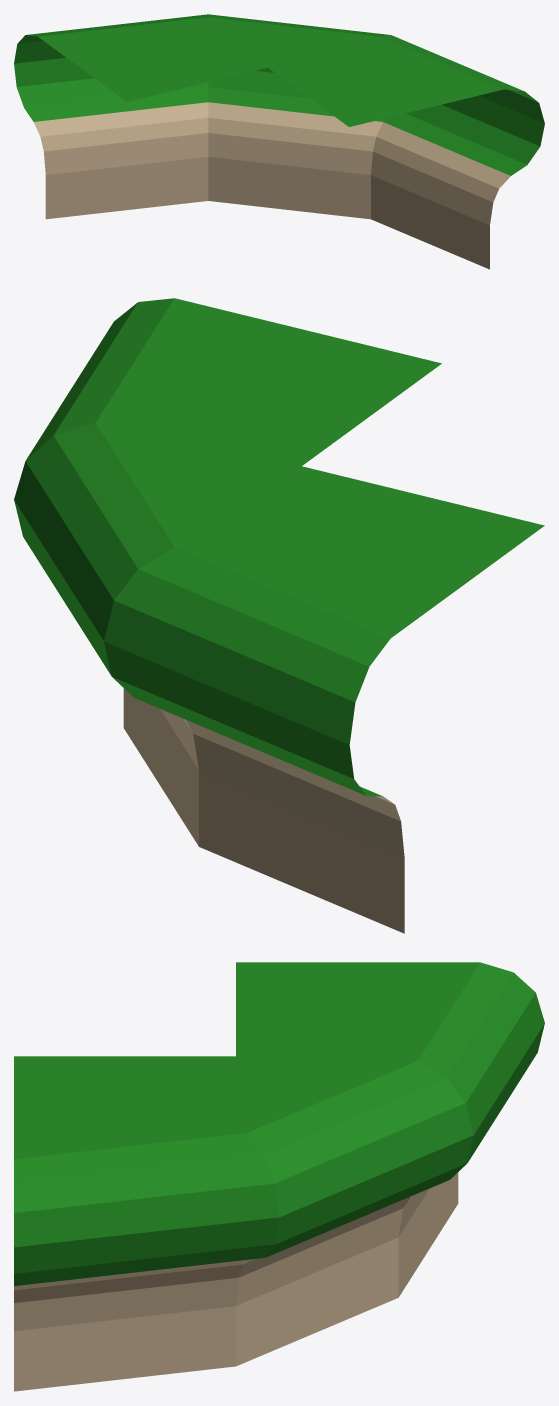
Rendered from Escarpment_Terrain_Corner_Outer_3x3_Top.obj.
The picture shows the model from 3 angles, top to bottom: view 1: azimuth 30°, elevation 25°; view 2: azimuth 150°, elevation 25°; view 3: azimuth 270°, elevation 25°; orthographic projection. The views are drawn at different scales.
Visible parts, largest first — view 1: object1; view 2: object1; view 3: object1.
Boxes of the visible parts, <box> form: object1: <box>14,14,544,269</box>; object1: <box>14,298,544,933</box>; object1: <box>14,962,544,1391</box>.
Bounding box in the file's own units: 2.39 × 1.2 × 2.39.
